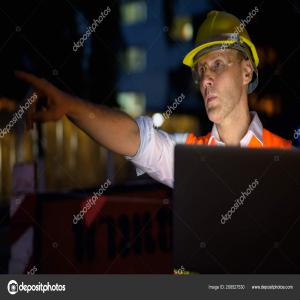yellow: (193, 9, 259, 124)
